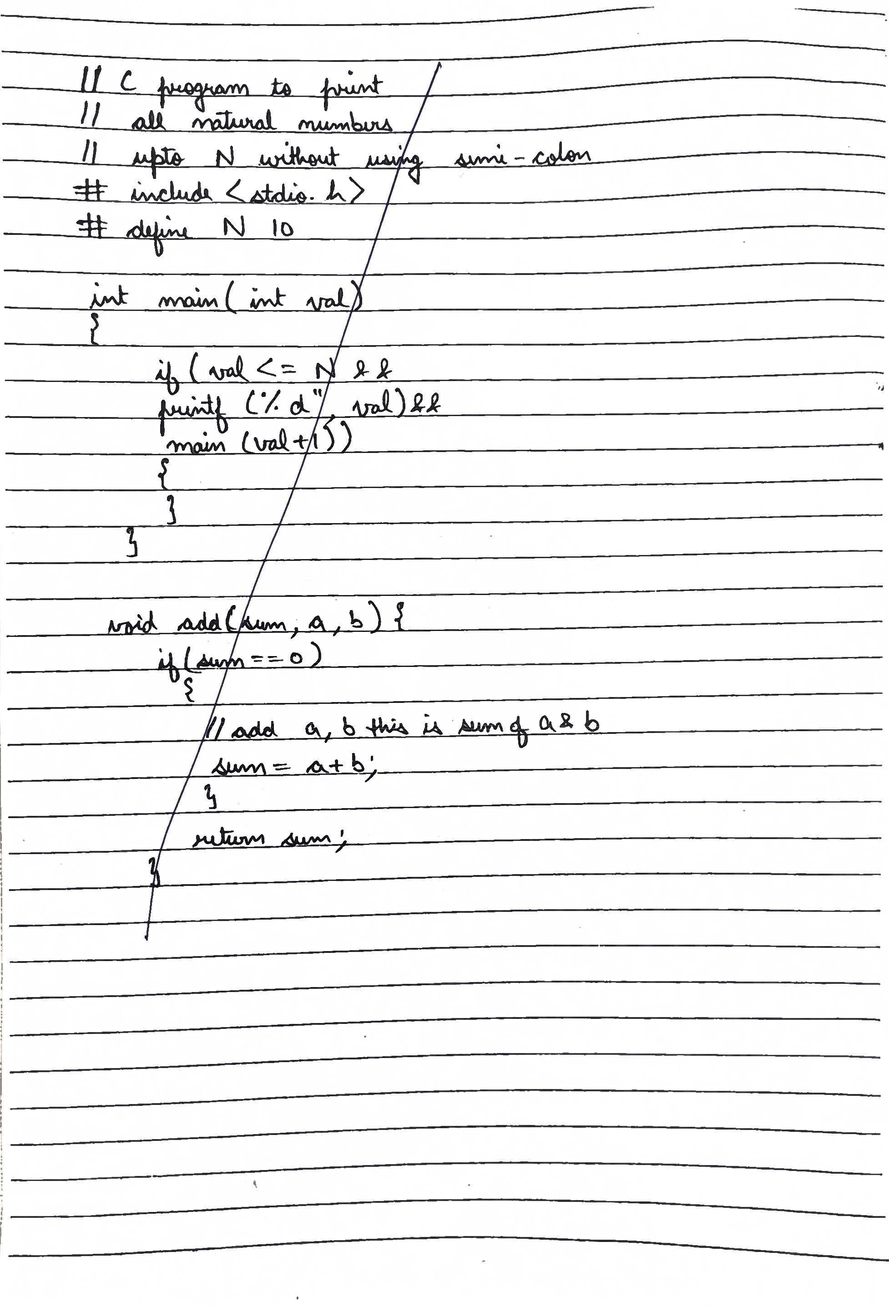cuttings: (75, 61, 603, 942)
